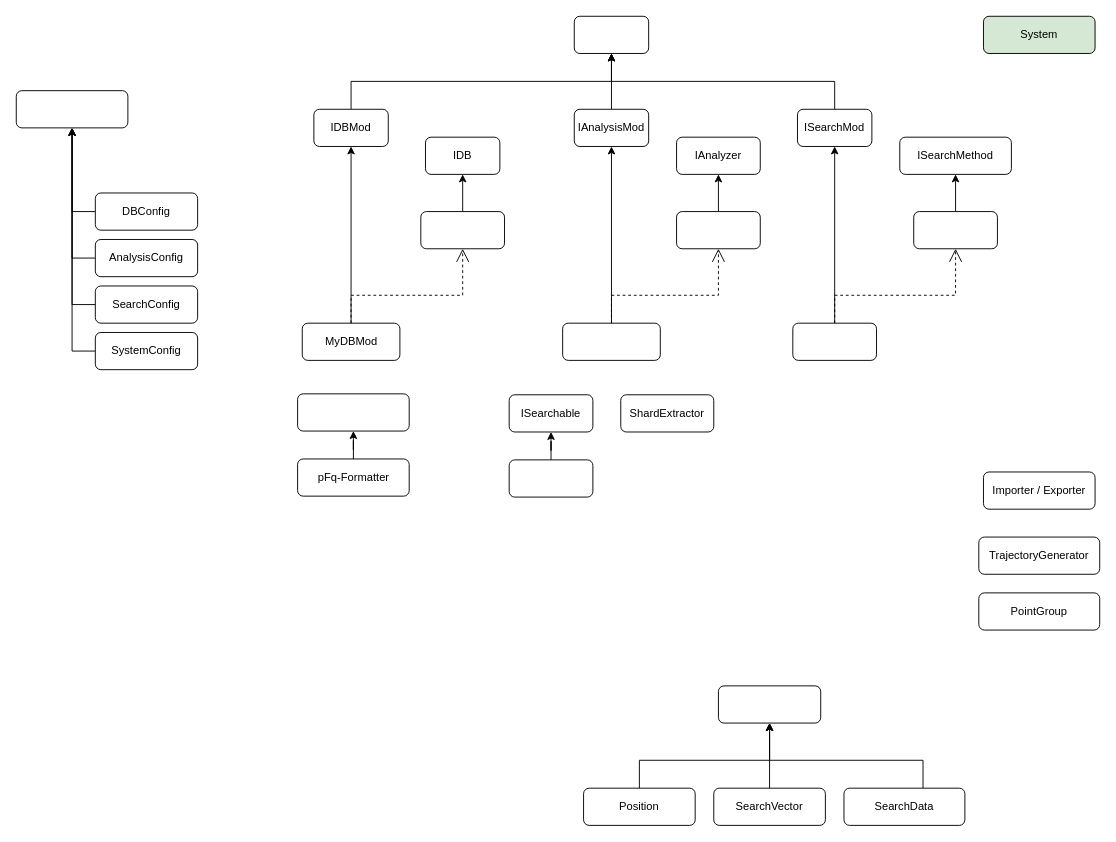
This 1116x842 diagram has some shape labels left out. Here are the shapes that lost their labels. From the top down, the centre of each, then its label:
At (611,34): "IModule".
At (71,109): "Configurable".
At (462,230): "MyDB".
At (718,230): "MyAnalyzer".
At (955,230): "MySearcher".
At (611,341): "MyAnalysisMod".
At (834,341): "MySearchMod".
At (353,412): "IFormatter".
At (550,478): "Shard".
At (769,704): "ISerializable".
